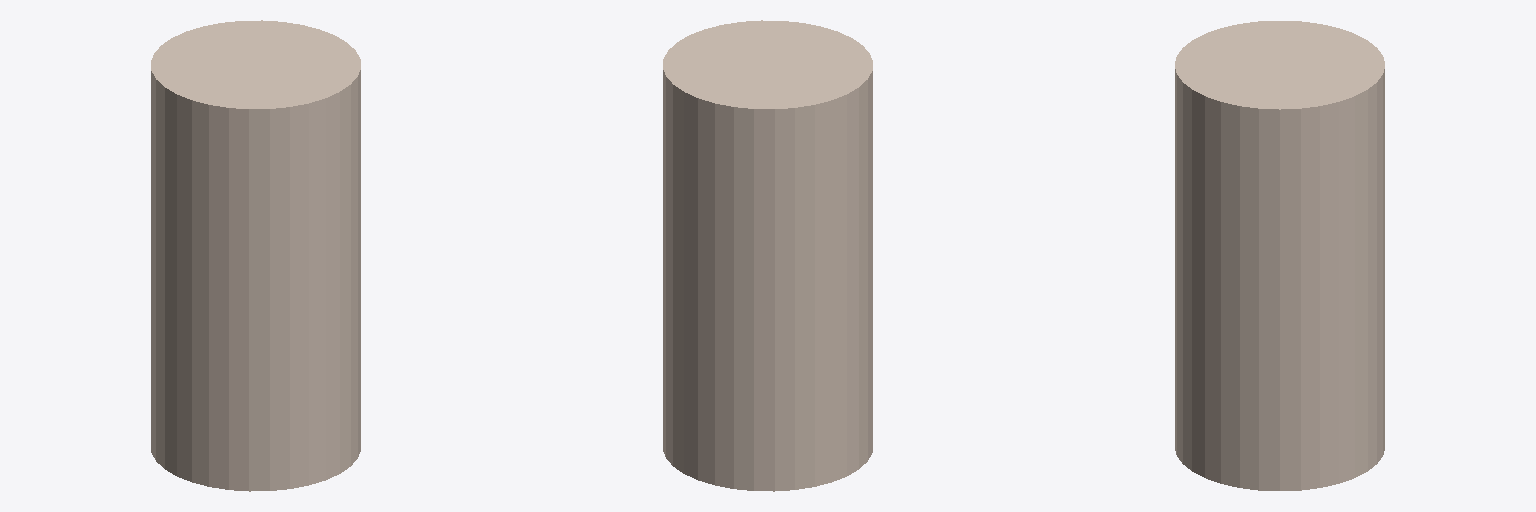
The robot description file, URDF, robot "object":
<?xml version="1.0" ?>
<robot name="object" xmlns:xacro="http://ros.org/wiki/xacro">
  <!-- Init colour -->
  <material name="black">
    <color rgba="0.0 0.0 0.0 1.0"/>
  </material>
  <material name="dark">
    <color rgba="0.3 0.3 0.3 1.0"/>
  </material>
  <material name="light_black">
    <color rgba="0.4 0.4 0.4 1.0"/>
  </material>
  <material name="blue">
    <color rgba="0.0 0.0 0.8 1.0"/>
  </material>
  <material name="green">
    <color rgba="0.0 0.8 0.0 1.0"/>
  </material>
  <material name="grey">
    <color rgba="0.5 0.5 0.5 1.0"/>
  </material>
  <material name="orange">
    <color rgba="1.0 0.423529411765 0.0392156862745 1.0"/>
  </material>
  <material name="brown">
    <color rgba="0.870588235294 0.811764705882 0.764705882353 1.0"/>
  </material>
  <material name="red">
    <color rgba="0.8 0.0 0.0 1.0"/>
  </material>
  <material name="white">
    <color rgba="1.0 1.0 1.0 1.0"/>
  </material>

  <link name="object">
    <visual>
      <origin rpy="0 0 0" xyz="0.0 0 0.0"/>
      <geometry>
        <cylinder length="0.6" radius="0.15"/>
      </geometry>
      <material name="brown"/>
    </visual>

    <collision>	
      <origin rpy="0 0 0" xyz="0 0 0"/>
      <geometry>
	<cylinder length="0.6" radius="0.15"/>
      </geometry>
    </collision>

    <inertial>
      <origin rpy="0 0 0" xyz="0.0 0 0"/>
      <mass value="1.3729096e-01"/>
      <!-- <mass value="1.3729096e+00"/> -->
      <inertia ixx="1.1175580e-05" ixy="-4.2369783e-11" ixz="-5.9381719e-09" iyy="1.1192413e-05" iyz="-1.4400107e-11" izz="2.0712558e-05"/>
    </inertial>
  </link>
  </robot>

--- Render facts (derived) ---
The picture shows the robot from 3 angles, left to right: view 1: azimuth 30°, elevation 25°; view 2: azimuth 150°, elevation 25°; view 3: azimuth 270°, elevation 25°; orthographic projection.
Model object with 1 links and 0 joints (none), rooted at object, posed all joints at 0.
Visible links, largest first — view 1: object; view 2: object; view 3: object.
Link boxes in pixels (x1=…): object: x1=151, y1=20, x2=360, y2=491; object: x1=663, y1=20, x2=872, y2=491; object: x1=1175, y1=21, x2=1384, y2=490.
Bounding box of the posed robot: 0.3 × 0.3 × 0.6 m (x, y, z).
Geometry: primitives only (box / cylinder / sphere), no mesh files.